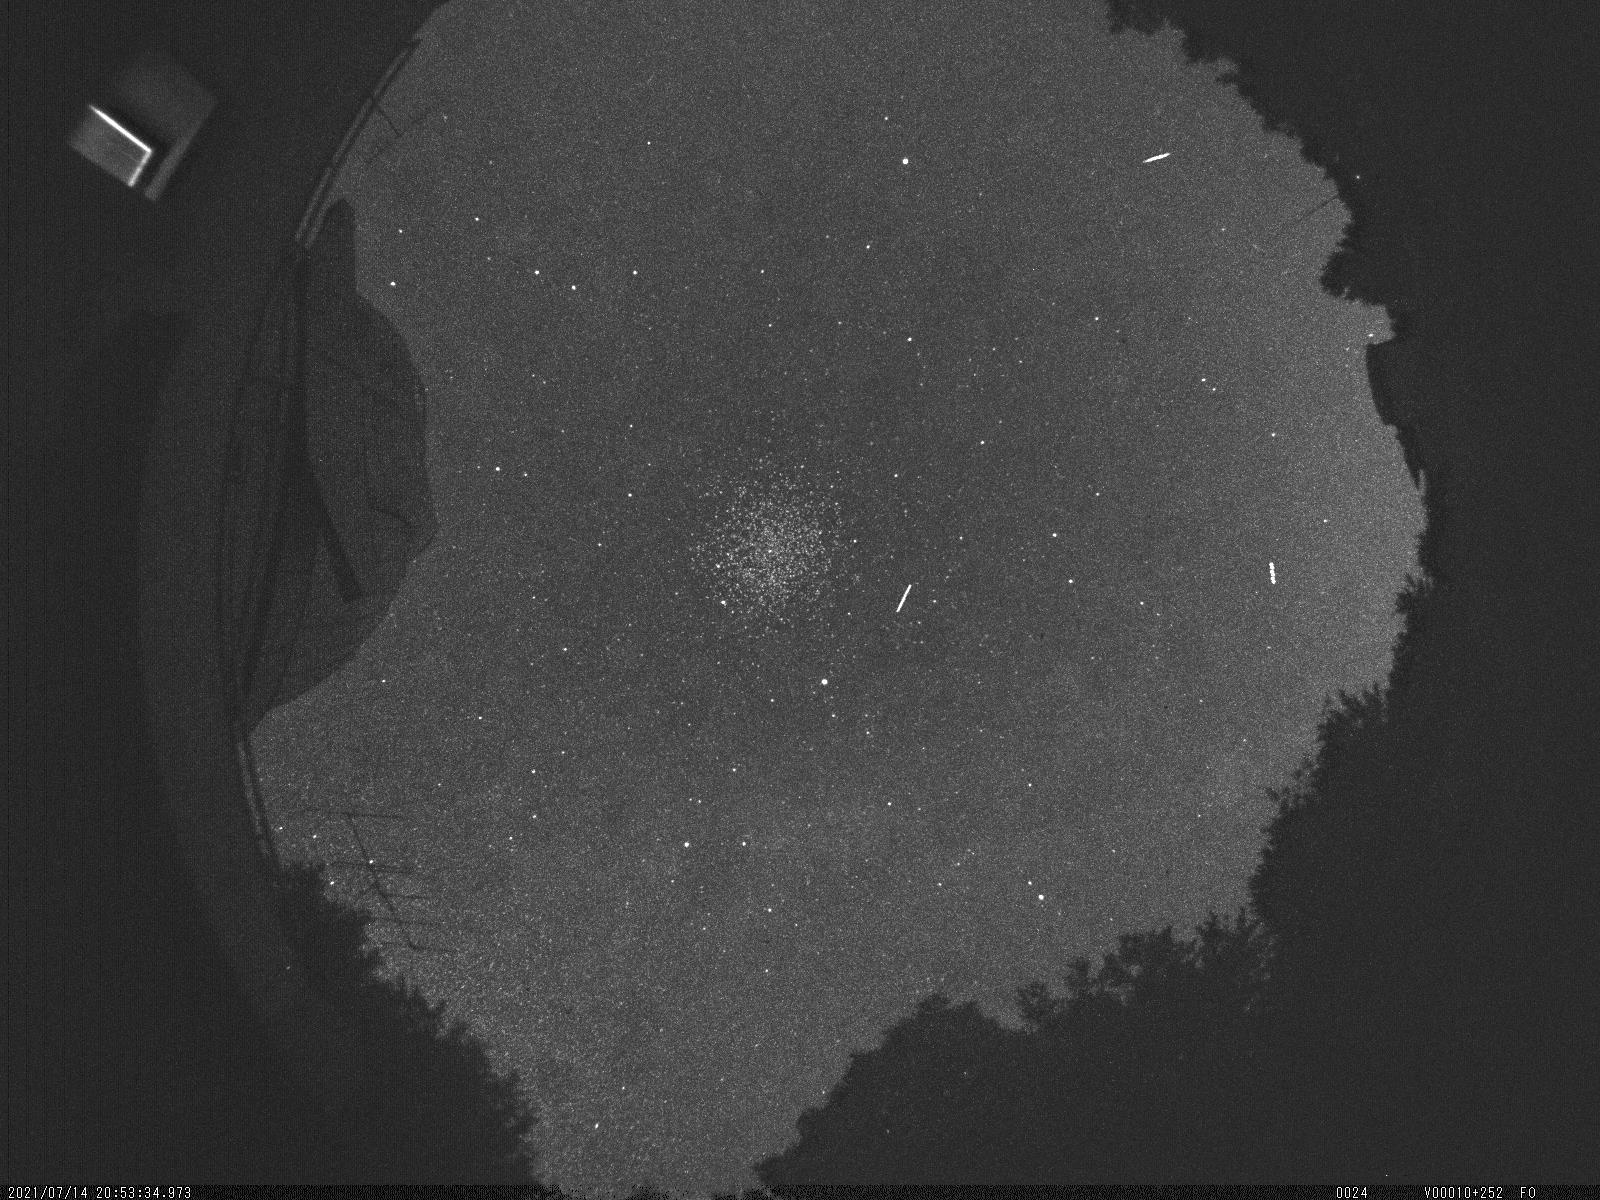Meteor: (1133, 137, 1172, 169)
